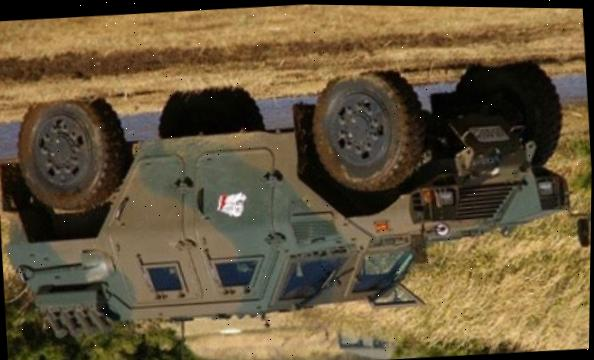armored_car: (0, 46, 593, 349)
